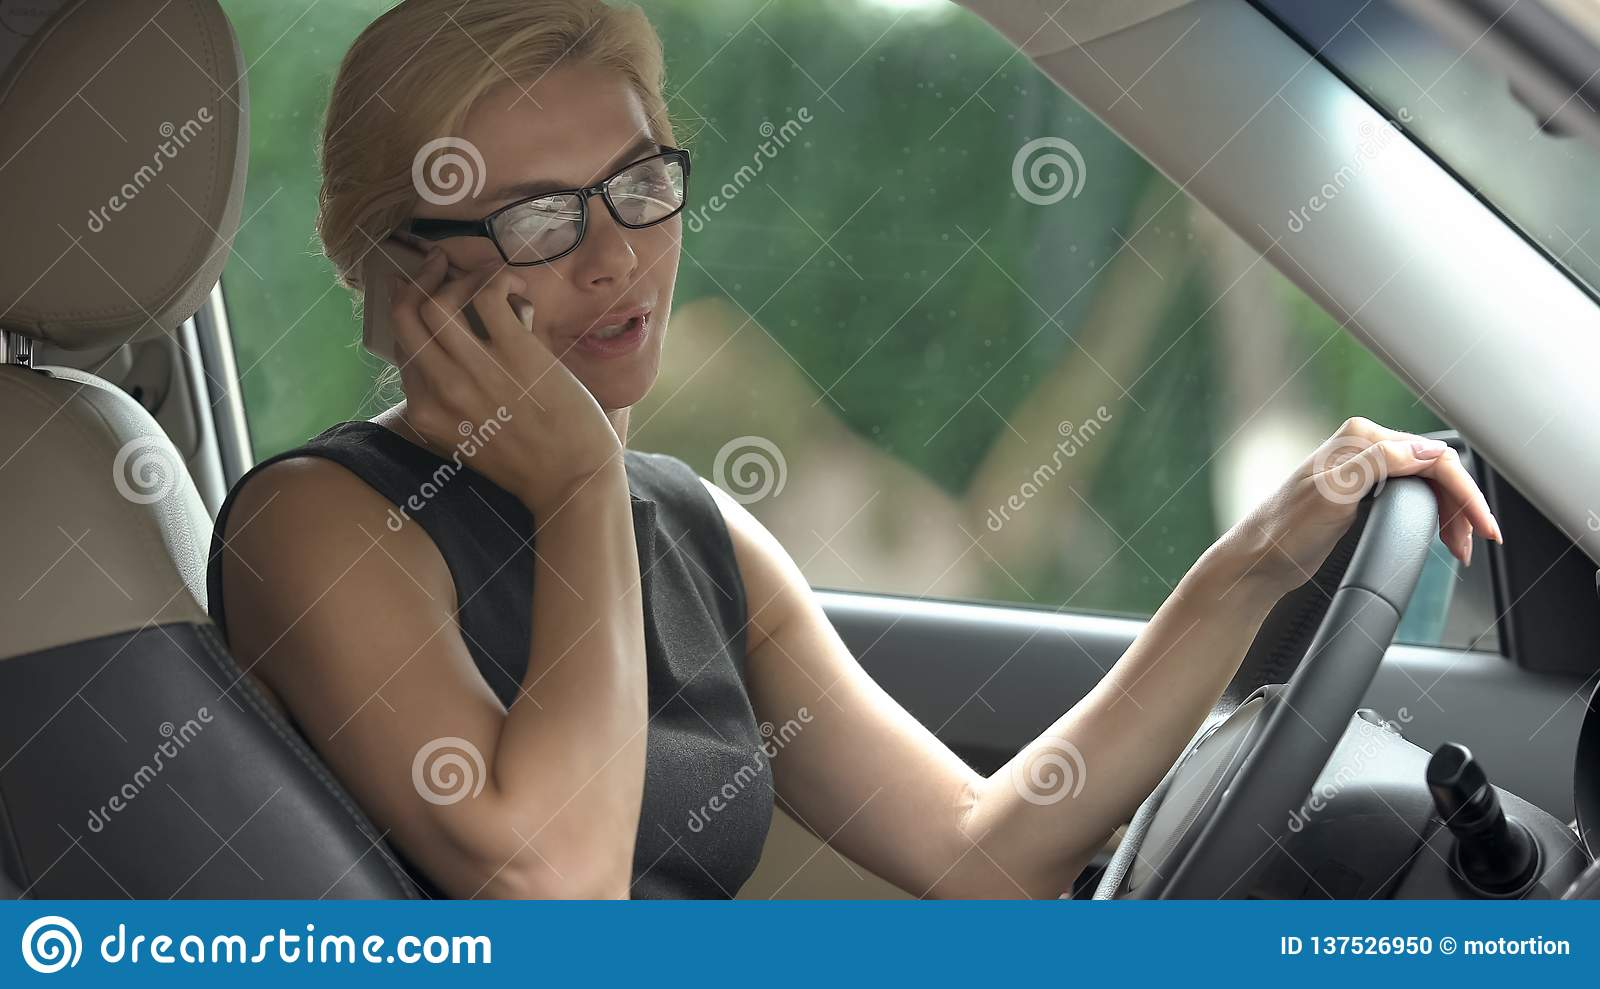phone: (363, 241, 538, 385)
talk: (357, 126, 683, 531)
